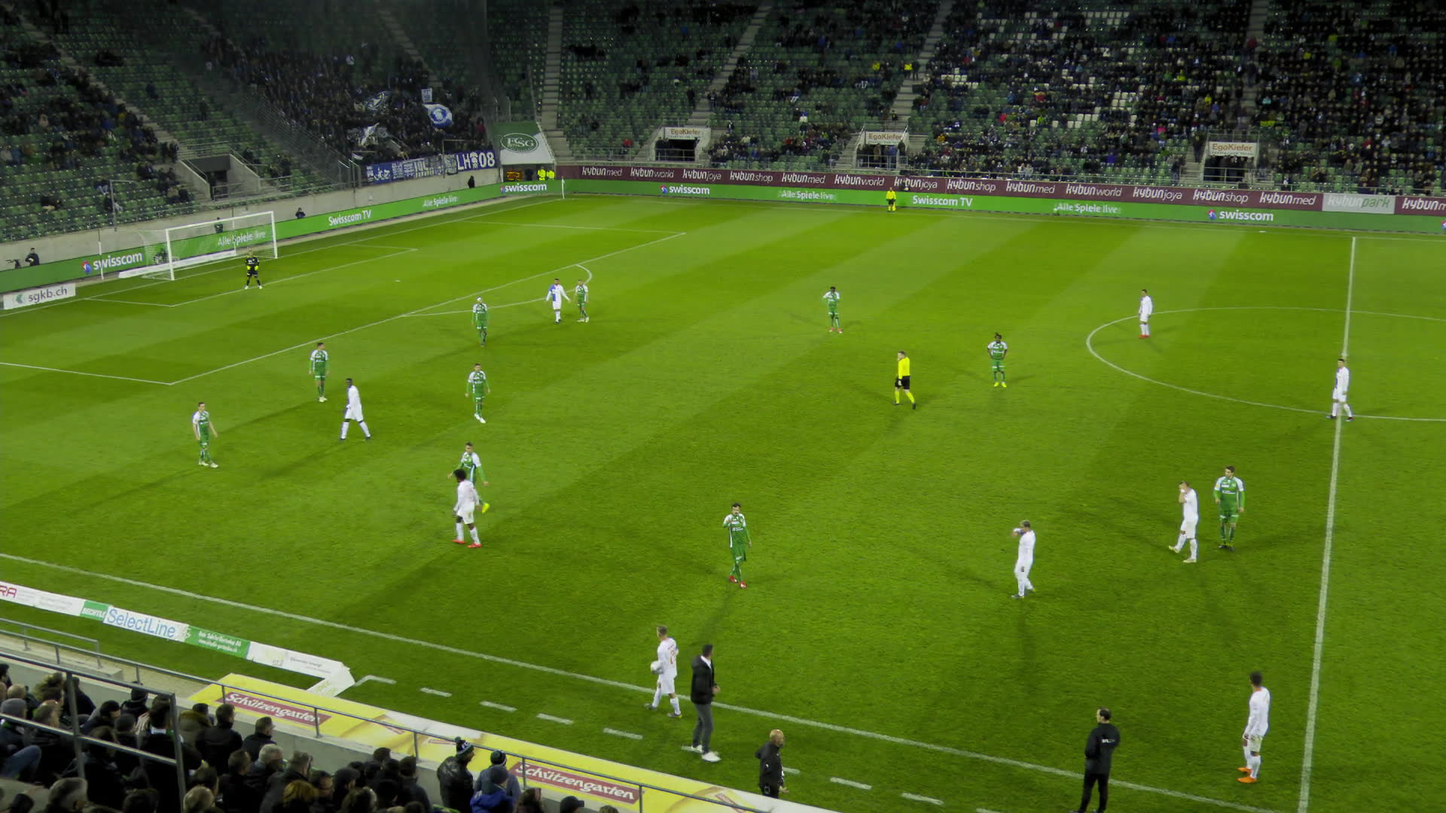ball: (649, 660, 658, 670)
player: (1237, 672, 1269, 782), (644, 623, 681, 717), (447, 442, 488, 513), (1213, 466, 1244, 550), (722, 503, 752, 586), (452, 467, 482, 547), (1168, 482, 1197, 562), (1009, 519, 1036, 598), (340, 377, 370, 441), (191, 400, 217, 467), (1326, 358, 1353, 422), (465, 363, 490, 422), (308, 342, 330, 402), (987, 332, 1007, 387), (545, 278, 569, 322), (471, 297, 489, 349), (821, 286, 840, 333), (243, 249, 261, 289), (572, 279, 588, 322), (1138, 289, 1152, 337)
referee: (893, 350, 915, 408), (886, 187, 895, 212)
